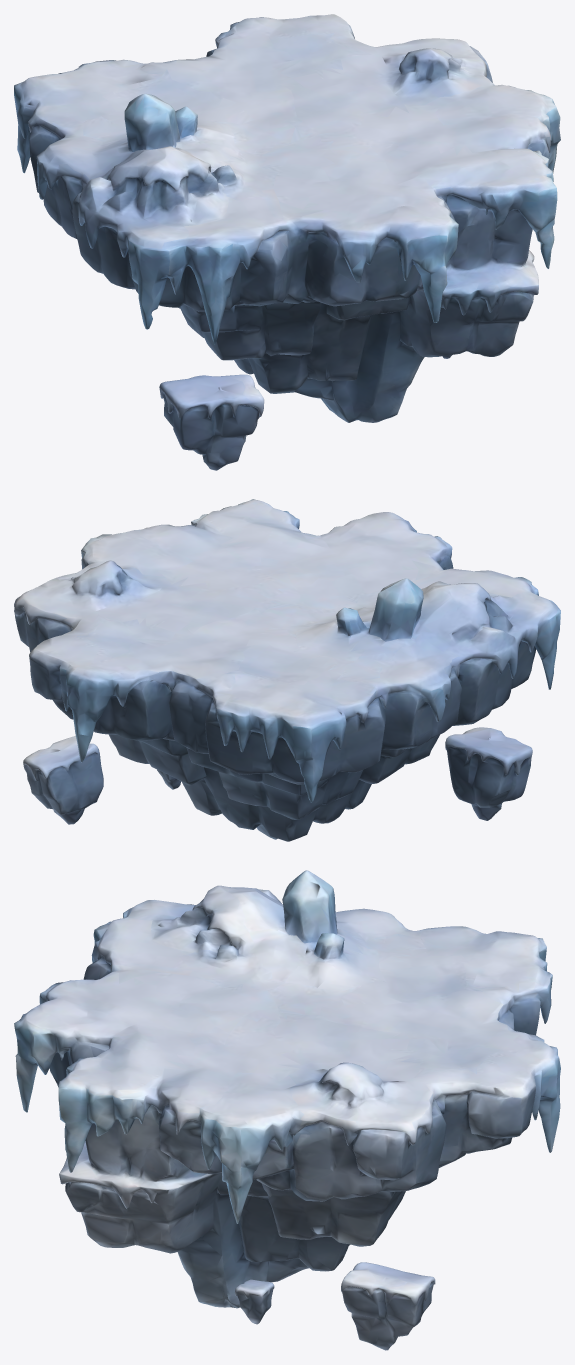
The model's file is R2_Island_Small.fbx.
The picture shows the model from 3 angles, top to bottom: view 1: azimuth 30°, elevation 25°; view 2: azimuth 150°, elevation 25°; view 3: azimuth 270°, elevation 25°; orthographic projection. The views are drawn at different scales.
Parts seen in each view (by area): view 1: R2_Island_Small; view 2: R2_Island_Small; view 3: R2_Island_Small.
Boxes of the visible parts, x1,y1,x2,y2 form: R2_Island_Small: (14,14,560,470); R2_Island_Small: (14,499,560,841); R2_Island_Small: (14,870,560,1350).
Bounding box in the file's own units: 520 × 360 × 520.
Materials: 1 (1 with a texture image).
